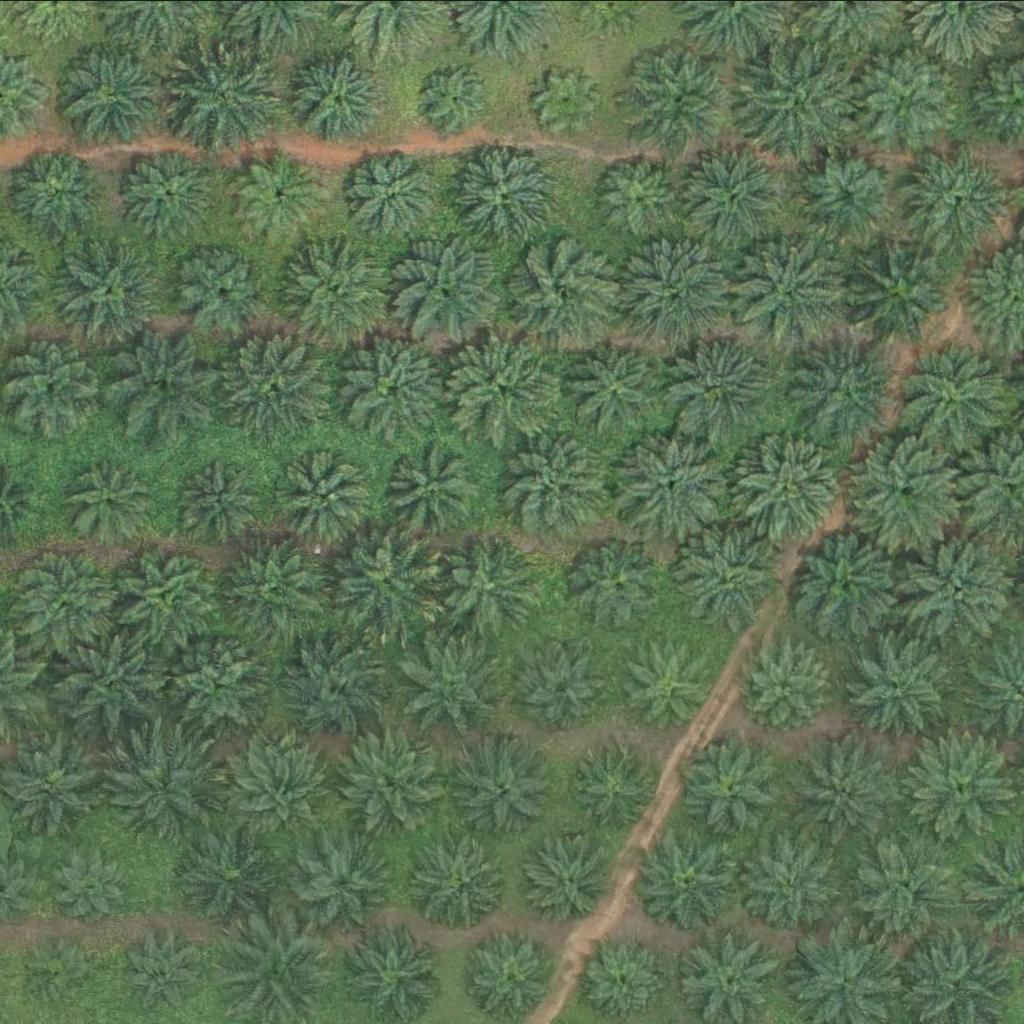Kelapa_Sawit: (177, 818, 291, 931), (285, 822, 399, 935), (57, 34, 171, 147), (170, 42, 284, 155), (844, 229, 958, 342), (669, 521, 783, 634), (336, 726, 450, 839), (896, 344, 1010, 457), (222, 325, 335, 438), (341, 330, 454, 443), (279, 36, 392, 149), (507, 237, 620, 350), (620, 233, 733, 346), (735, 232, 848, 345), (445, 332, 558, 445), (565, 330, 678, 443), (790, 529, 903, 642), (676, 731, 789, 844), (905, 530, 1018, 643), (784, 335, 898, 447), (615, 425, 729, 537), (736, 429, 850, 541), (400, 629, 514, 741), (112, 731, 225, 843), (59, 626, 172, 738), (277, 629, 390, 741), (229, 525, 342, 637), (101, 326, 214, 438), (48, 233, 161, 345), (279, 236, 392, 348), (624, 42, 737, 154), (746, 43, 859, 155), (451, 134, 564, 246), (682, 140, 795, 252), (392, 234, 505, 346), (667, 330, 780, 442), (499, 424, 612, 536), (333, 528, 446, 640), (789, 729, 902, 841), (633, 825, 746, 937), (904, 731, 1017, 843), (851, 434, 964, 546), (172, 631, 273, 731), (17, 542, 118, 642), (114, 544, 215, 644), (274, 445, 375, 545), (168, 239, 269, 339), (799, 144, 900, 244), (383, 439, 484, 539), (741, 835, 842, 935), (852, 834, 953, 934), (846, 635, 947, 735), (854, 44, 955, 144), (233, 735, 333, 835), (6, 142, 106, 242), (120, 142, 220, 242), (442, 536, 542, 636), (572, 535, 672, 635), (615, 636, 715, 736), (457, 739, 557, 839), (410, 832, 510, 932), (904, 141, 1004, 241), (352, 149, 440, 237), (592, 152, 680, 240), (530, 836, 618, 924), (578, 934, 666, 1022), (177, 455, 266, 542), (64, 452, 152, 539), (236, 150, 324, 237), (523, 647, 611, 734), (742, 640, 830, 727), (570, 749, 658, 836), (125, 935, 201, 1010), (59, 855, 122, 918), (32, 935, 95, 998), (425, 63, 488, 126), (536, 68, 599, 131)
